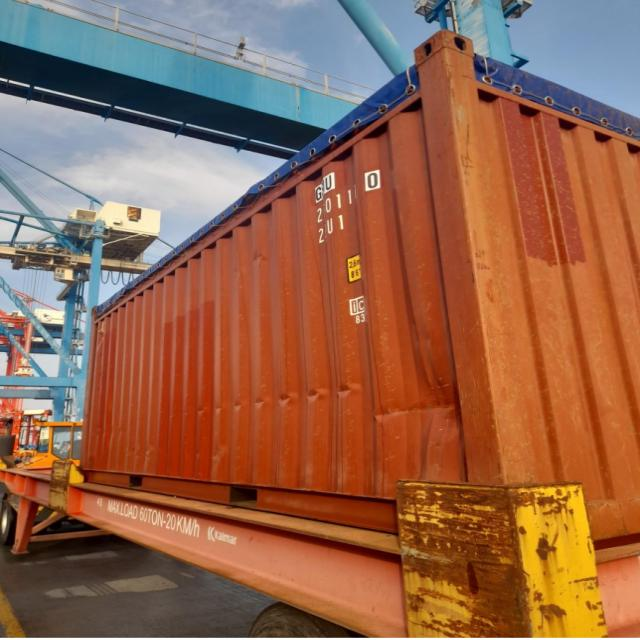dent: (361, 271, 475, 498), (173, 380, 357, 428)
